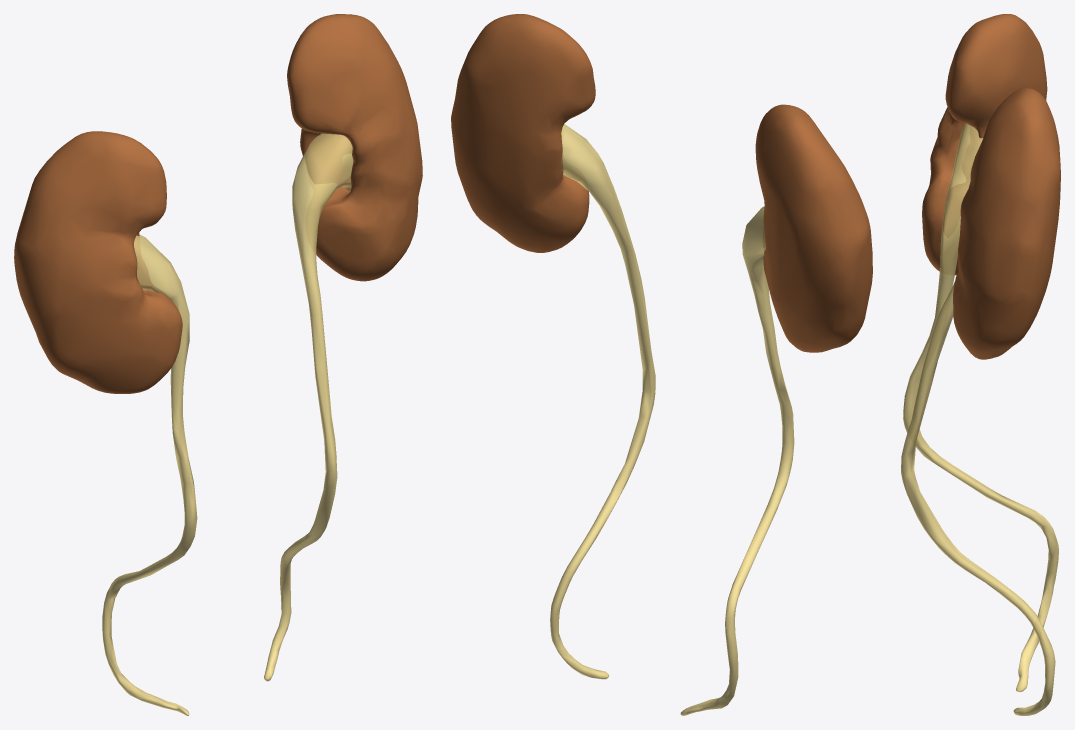
The model's file is Kidney.glb.
The picture shows the model from 3 angles, left to right: view 1: azimuth 30°, elevation 25°; view 2: azimuth 150°, elevation 25°; view 3: azimuth 270°, elevation 25°; orthographic projection. The views are drawn at different scales.
Visible parts, largest first — view 1: Object_71, Object_77; view 2: Object_71, Object_77; view 3: Object_71, Object_77.
Boxes of the visible parts, bbox=[...] form: Object_71: bbox=[14, 14, 422, 393]; Object_77: bbox=[102, 133, 353, 715]; Object_71: bbox=[451, 14, 872, 352]; Object_77: bbox=[550, 124, 794, 715]; Object_71: bbox=[922, 14, 1060, 359]; Object_77: bbox=[901, 123, 1058, 715].
Bounding box in the file's own units: 0.178 × 0.2792 × 0.0602.
